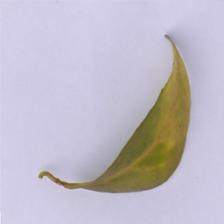greening: (81, 13, 209, 208)
